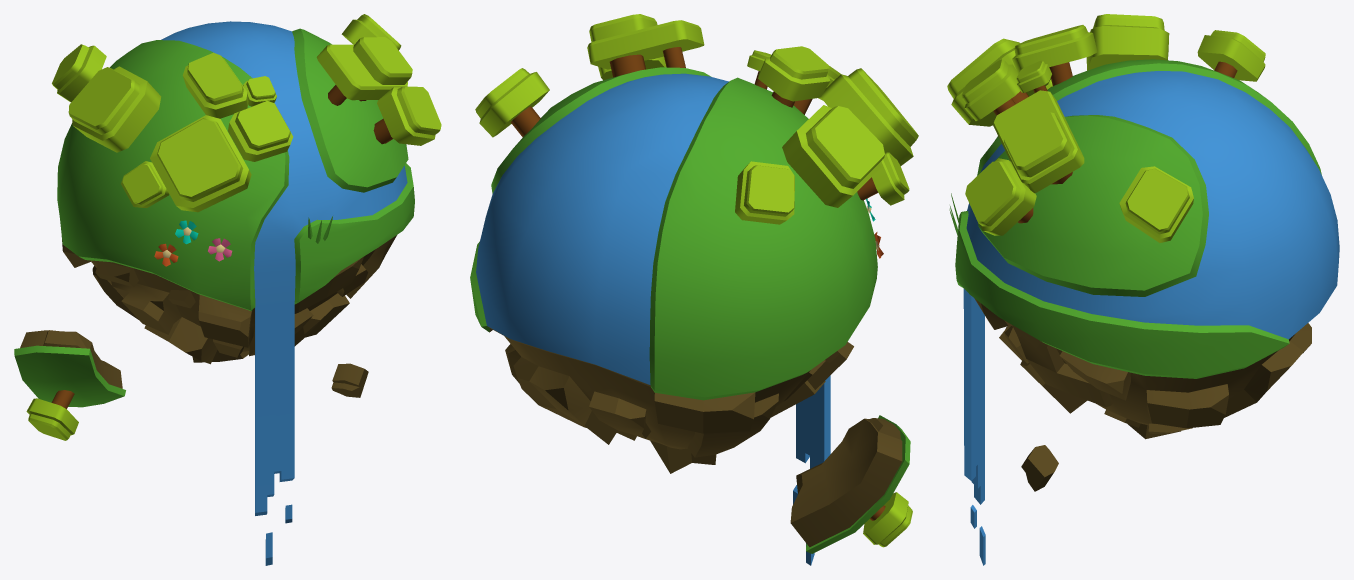
Rendered from Exotic_Planet_Waterfall.fbx.
3 views of the same model, side by side, from view 1: azimuth 30°, elevation 25°; view 2: azimuth 150°, elevation 25°; view 3: azimuth 270°, elevation 25° (orthographic). The views are drawn at different scales.
Parts seen in each view (by area): view 1: Planet_Waterfall_Mesh; view 2: Planet_Waterfall_Mesh; view 3: Planet_Waterfall_Mesh.
Boxes of the visible parts, <box> form: Planet_Waterfall_Mesh: <box>14,14,441,565</box>; Planet_Waterfall_Mesh: <box>470,14,918,565</box>; Planet_Waterfall_Mesh: <box>947,14,1339,565</box>.
Size of the model in its own units: 5.83 by 7.08 by 4.75.
